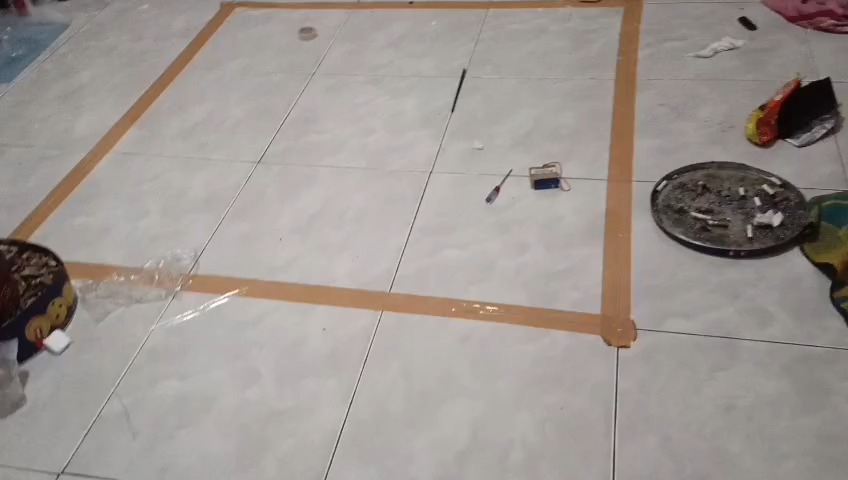floor marking: (12, 1, 642, 347), (66, 262, 141, 280)
